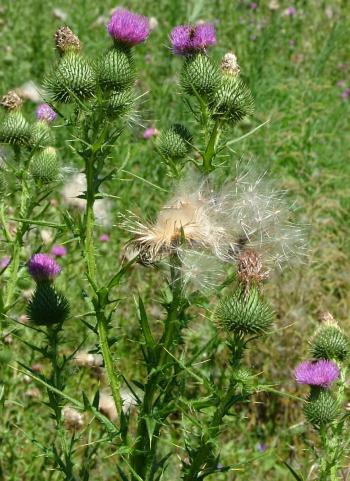thistle: (165, 21, 229, 95), (24, 250, 78, 326), (99, 12, 146, 87), (295, 362, 346, 425)
